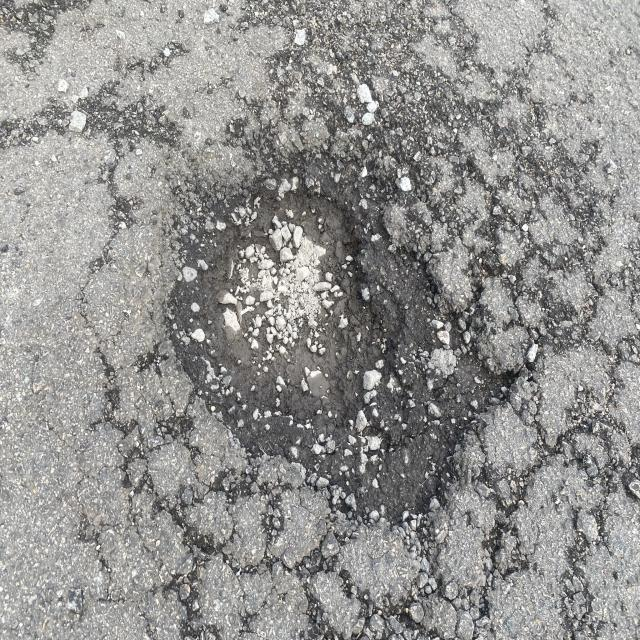pothole: (133, 142, 552, 601)
